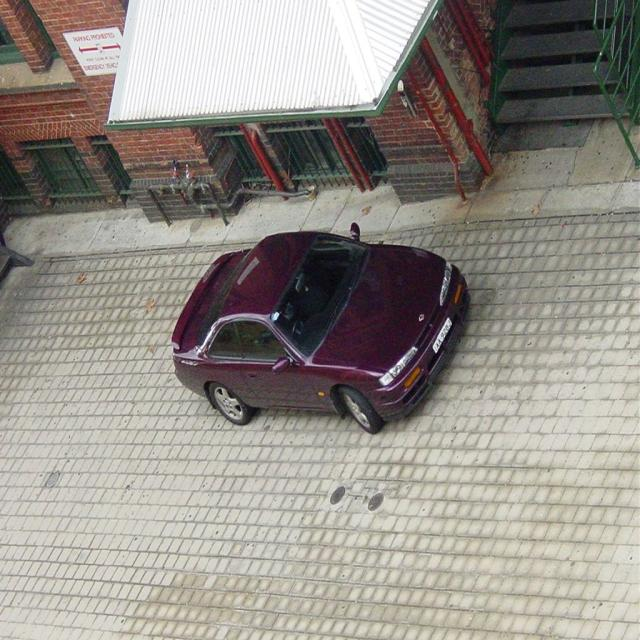car: (168, 222, 477, 436)
